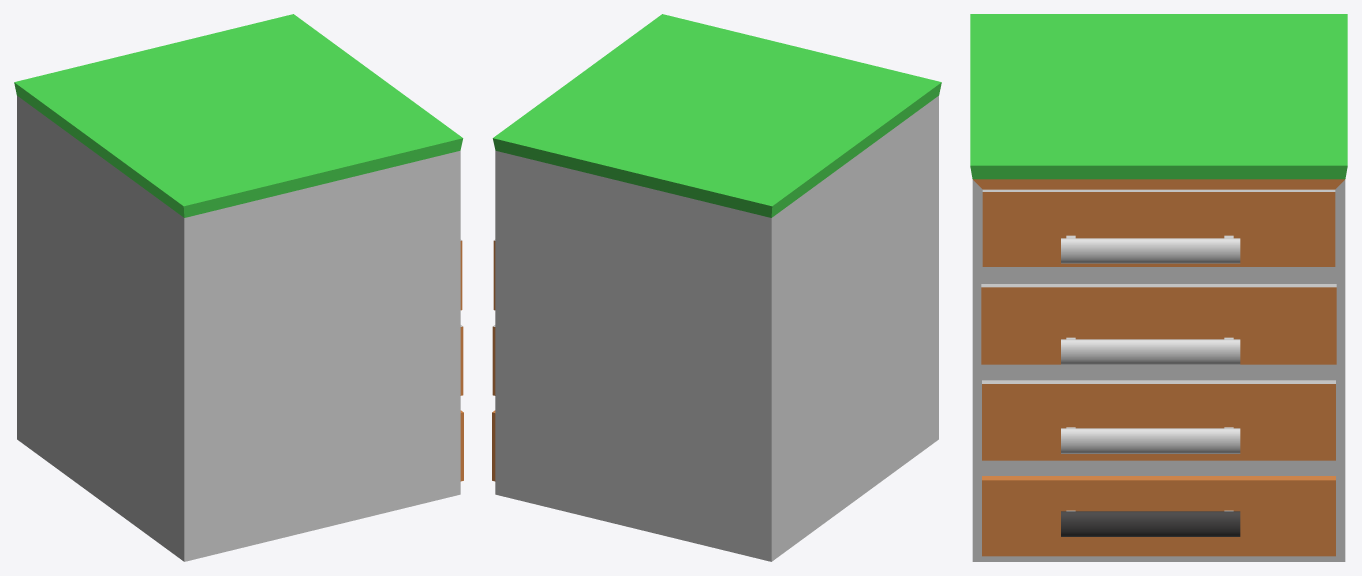
The model's file is Cabinet.fbx.
3 renders of one model, left to right at view 1: azimuth 30°, elevation 25°; view 2: azimuth 150°, elevation 25°; view 3: azimuth 270°, elevation 25°, orthographic. The views are drawn at different scales.
Parts seen in each view (by area): view 1: Cube; view 2: Cube; view 3: Cube, Cylinder, Cylinder.001, Cylinder.002, Cylinder.003.
Part boxes in pixels (box(x1,y1,x2,y2)): Cube: box(14, 14, 463, 561); Cube: box(492, 14, 941, 561); Cube: box(970, 14, 1347, 561); Cylinder: box(1061, 238, 1240, 263); Cylinder.001: box(1061, 339, 1240, 364); Cylinder.002: box(1061, 428, 1240, 453); Cylinder.003: box(1061, 511, 1240, 536).
Size of the model in its own units: 12048 by 13133 by 11318.
